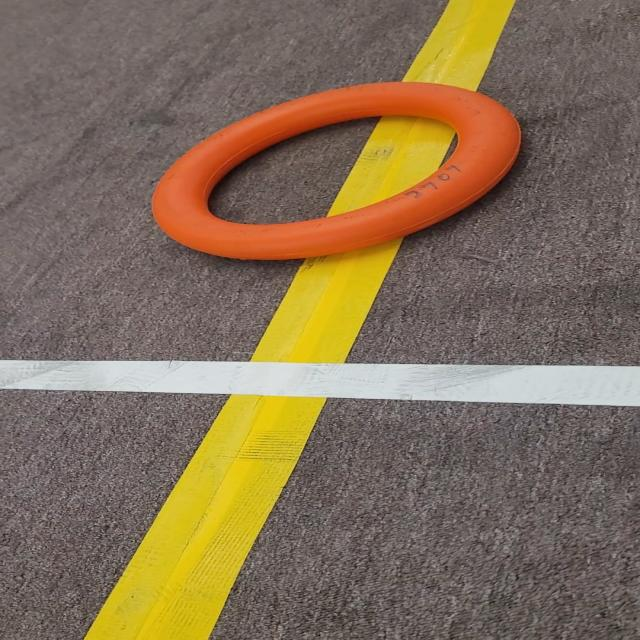note: (134, 69, 555, 275)
